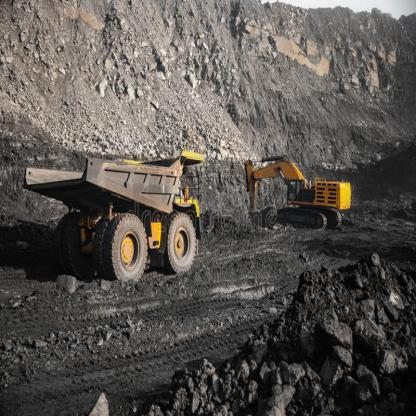dump_truck: (34, 138, 218, 294)
excavator: (238, 142, 353, 236)
